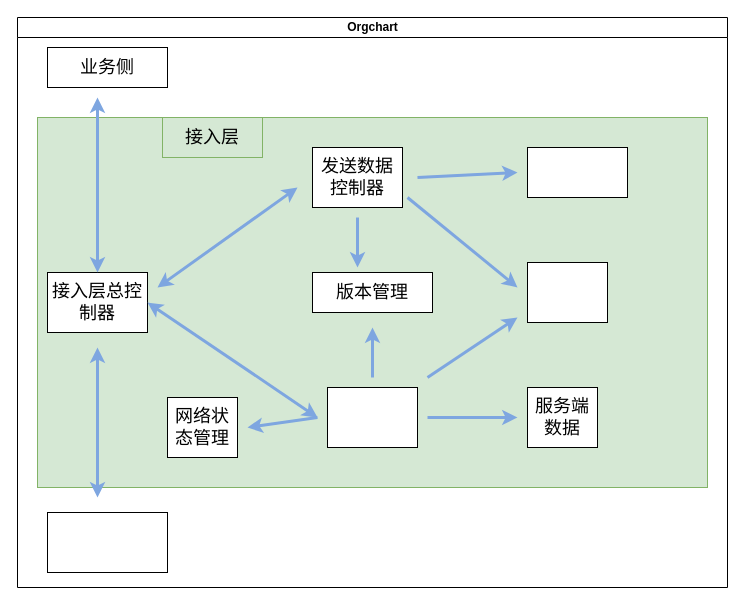
Image size: 745x605. Some labels were removed from this diagram. Each missing label, with the centre of its shape:
"待提交数据队列" goes at point 567,292.
"接受数据控制器" goes at point 372,417.
"本地数据" goes at point 577,172.
"连接层/服务端" goes at point 107,542.
